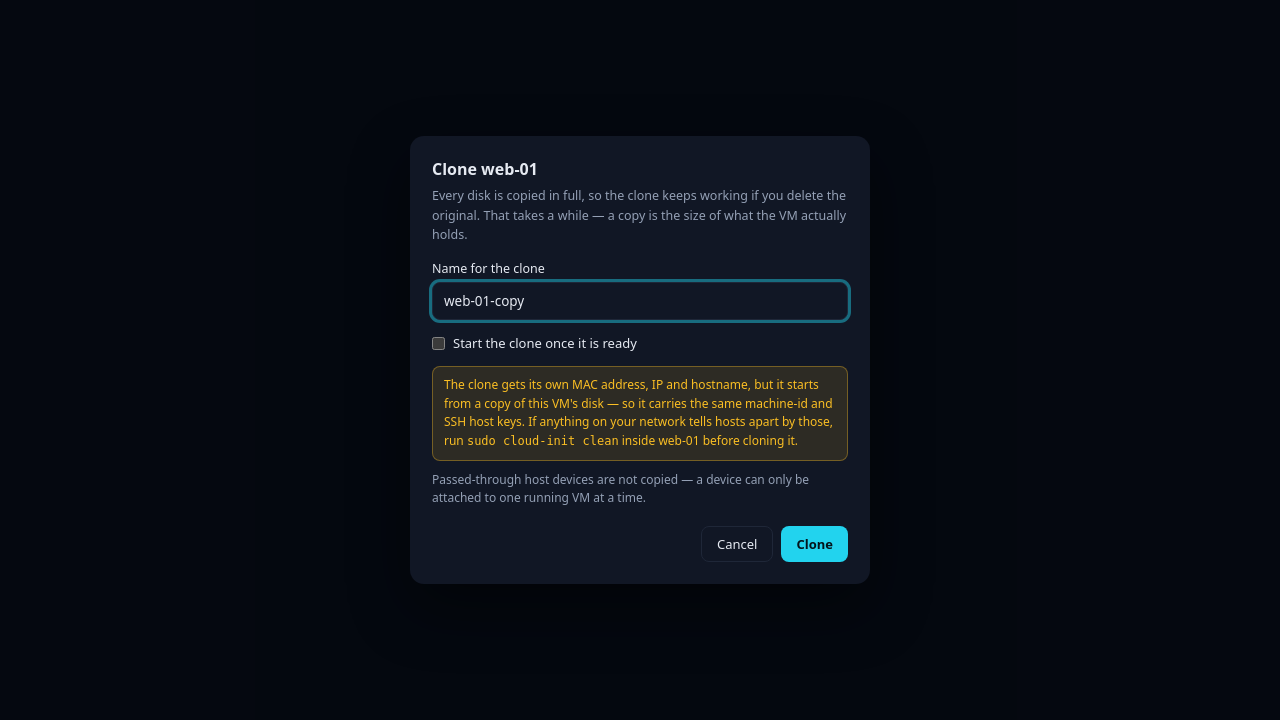
Test: CloneVMModal › keeps the dialog open and shows why when the clone fails
What coordinates should you click on to do the following:
click the button "Clone"
I would click on:
 (815, 544)
Its box is [782,526,848,562].
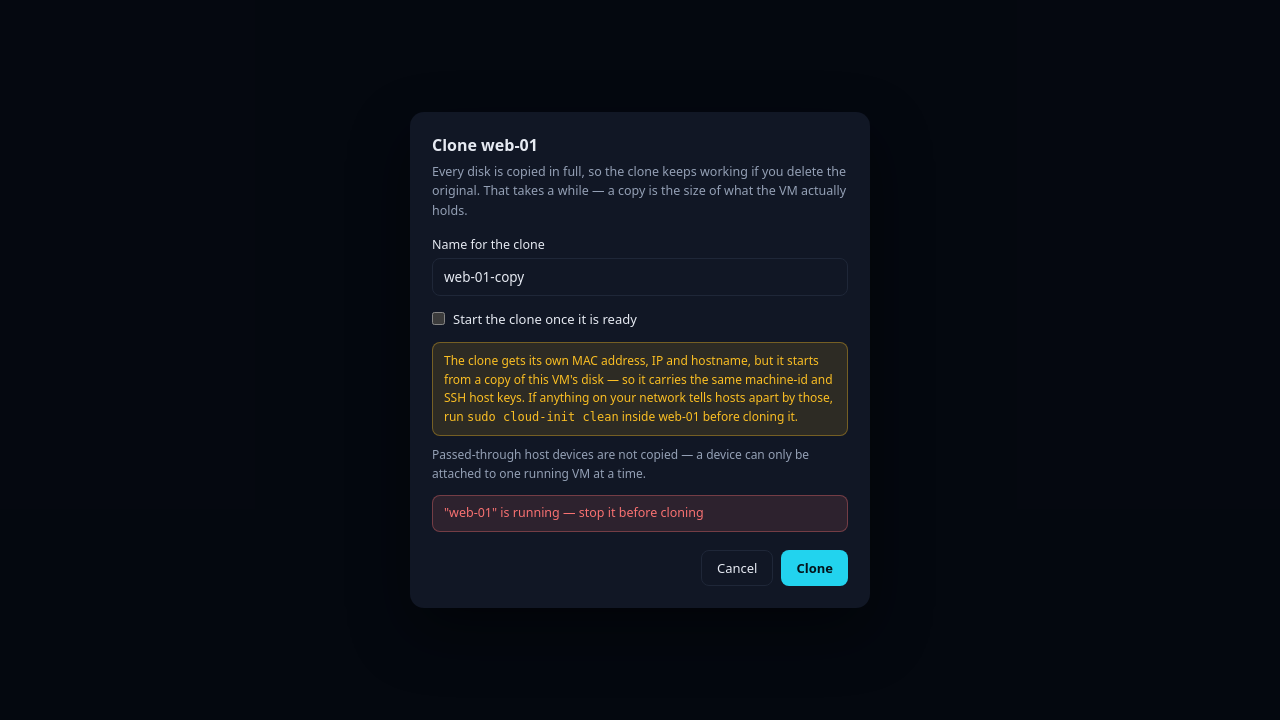
expect the text "\"web-01\" is running — stop it before cloning" is shown: met, box [432,496,848,532]
